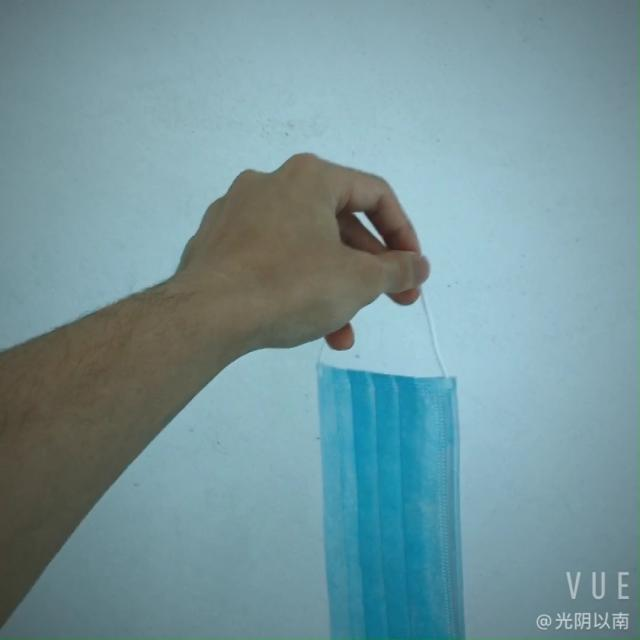non-organic waste: (291, 328, 466, 625)
